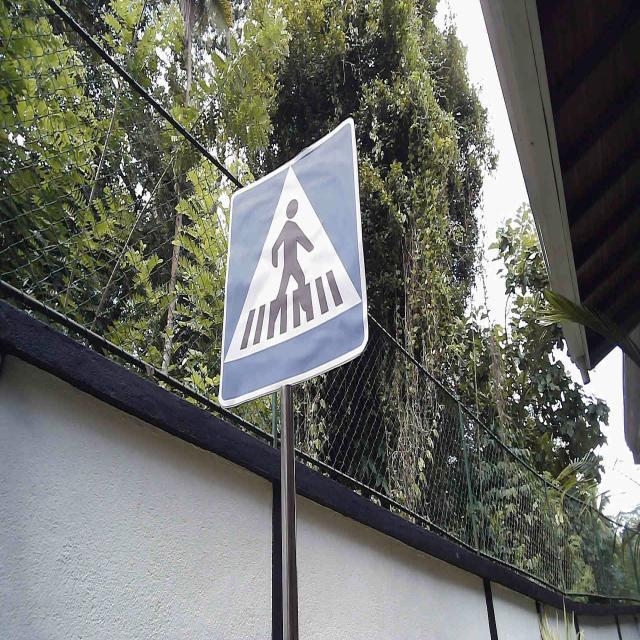crosswalk_sign: (217, 115, 371, 412)
